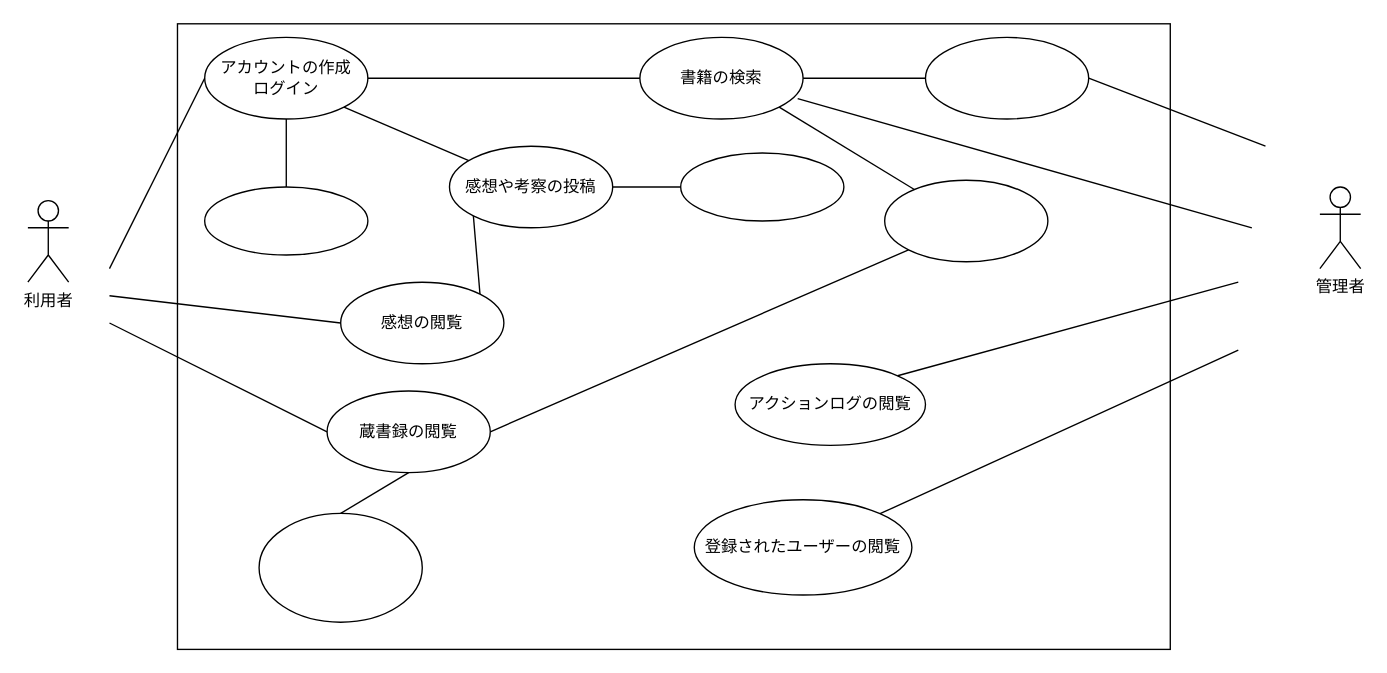
This 1387x673 diagram has some shape labels left out. The box of each missing label's shape, as (x1, y1, x2, y2) in pixels:
タグの付与: (679, 152, 844, 221)
プロフィールの 編集: (203, 186, 368, 255)
書籍追加: (924, 36, 1089, 119)
蔵書録の作成: (883, 179, 1048, 262)
関心の分析: (258, 512, 422, 622)
